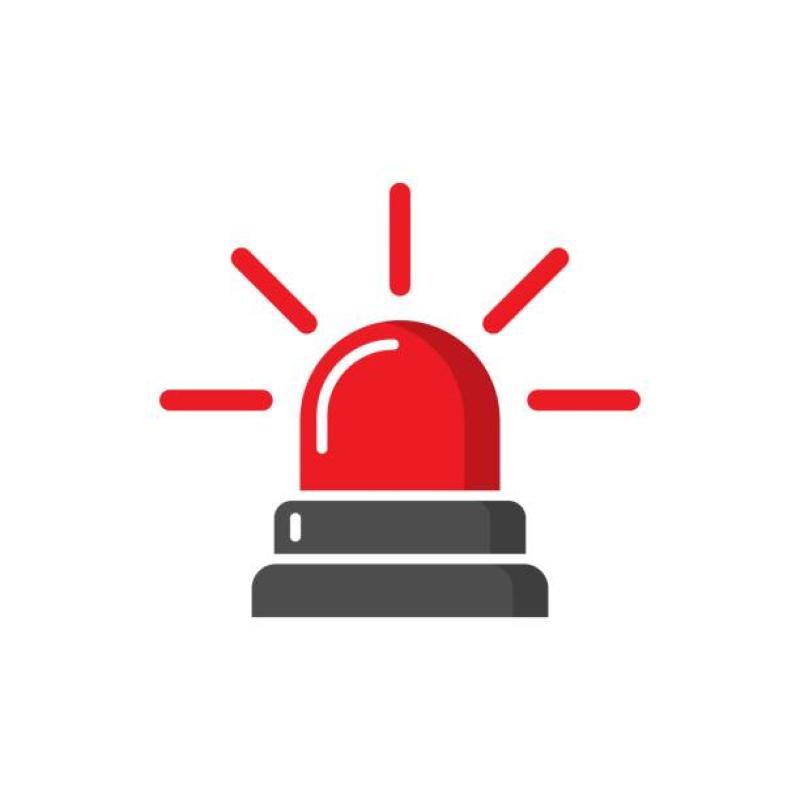AmbulanceSiren: (195, 238, 596, 503)
